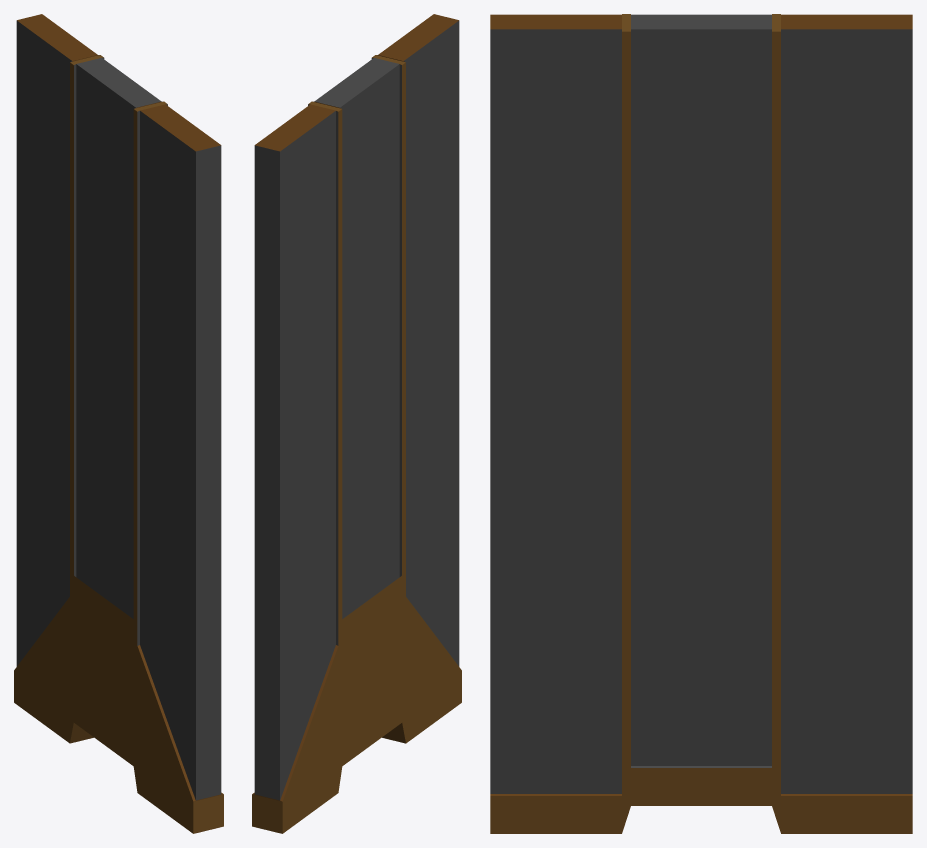
The model's file is door.fbx.
The picture shows the model from 3 angles, left to right: view 1: azimuth 30°, elevation 25°; view 2: azimuth 150°, elevation 25°; view 3: azimuth 270°, elevation 25°; orthographic projection. The views are drawn at different scales.
Parts seen in each view (by area): view 1: Door; view 2: Door; view 3: Door.
Boxes of the visible parts, x1=… form: Door: x1=14, y1=14, x2=223, y2=833; Door: x1=252, y1=14, x2=461, y2=833; Door: x1=490, y1=14, x2=912, y2=833.
Size of the model in its own units: 17.03 by 173 by 363.
